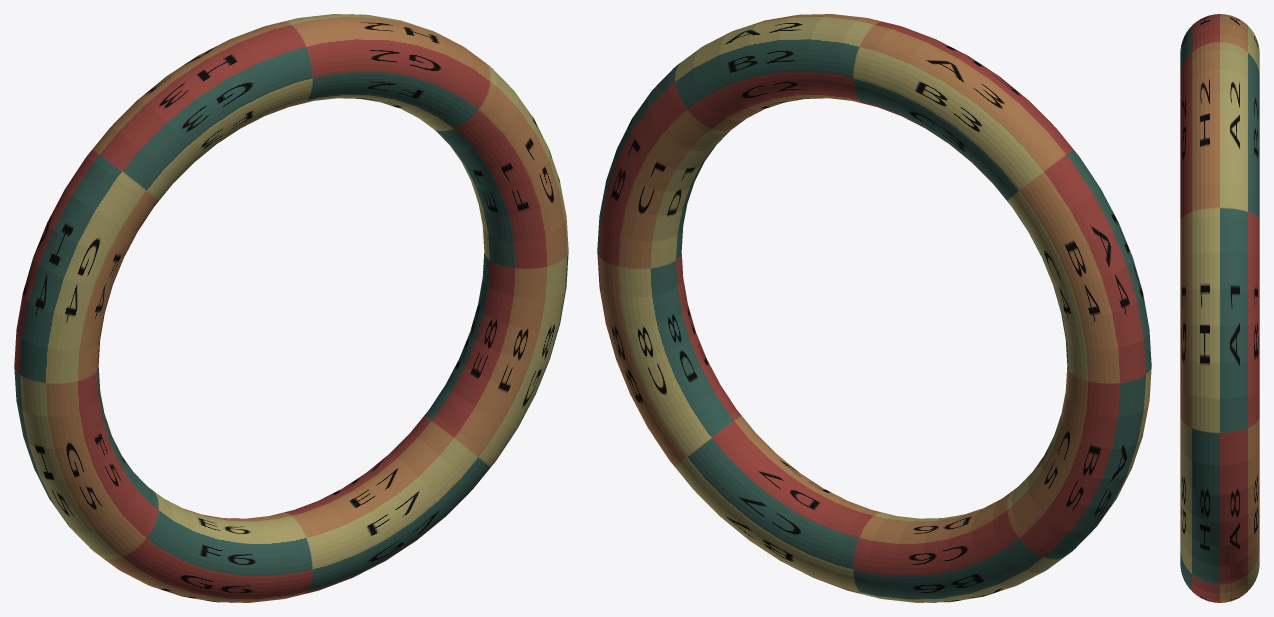
File: texture_torus_R12_r3.glb
3 views of the same model, side by side, from view 1: azimuth 30°, elevation 25°; view 2: azimuth 150°, elevation 25°; view 3: azimuth 270°, elevation 25° (orthographic). The views are drawn at different scales.
Visible parts, largest first — view 1: world; view 2: world; view 3: world.
Boxes of the visible parts, x1,y1,x2,y2 form: world: (14, 14, 568, 602); world: (597, 14, 1151, 602); world: (1180, 14, 1259, 602).
Size of the model in its own units: 20.8 by 20.76 by 2.79.
Materials: 1 (1 with a texture image).
